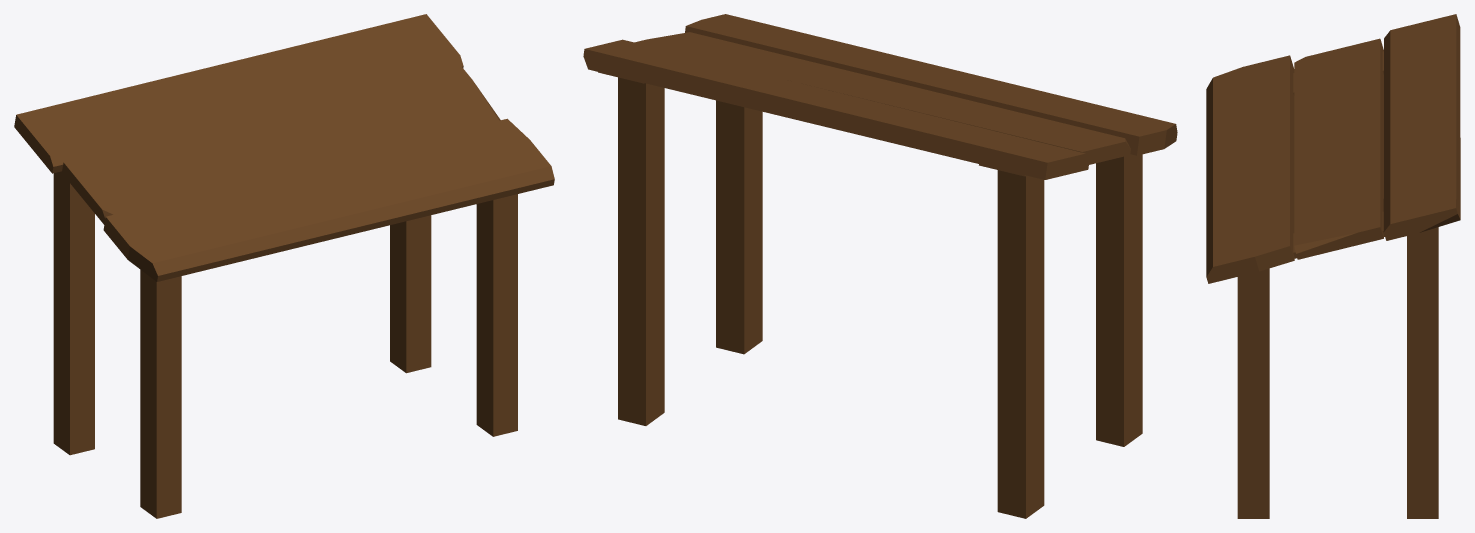
Rendered from Desk.fbx.
3 views of the same model, side by side, from view 1: azimuth 30°, elevation 25°; view 2: azimuth 150°, elevation 25°; view 3: azimuth 270°, elevation 25° (orthographic). The views are drawn at different scales.
Visible parts, largest first — view 1: bureau; view 2: bureau; view 3: bureau.
Part boxes in pixels (left/top/right/bottom): bureau: left=14, top=14, right=554, bottom=518; bureau: left=583, top=14, right=1177, bottom=518; bureau: left=1206, top=14, right=1460, bottom=518.
Size of the model in its own units: 73.94 by 56.78 by 40.78.
